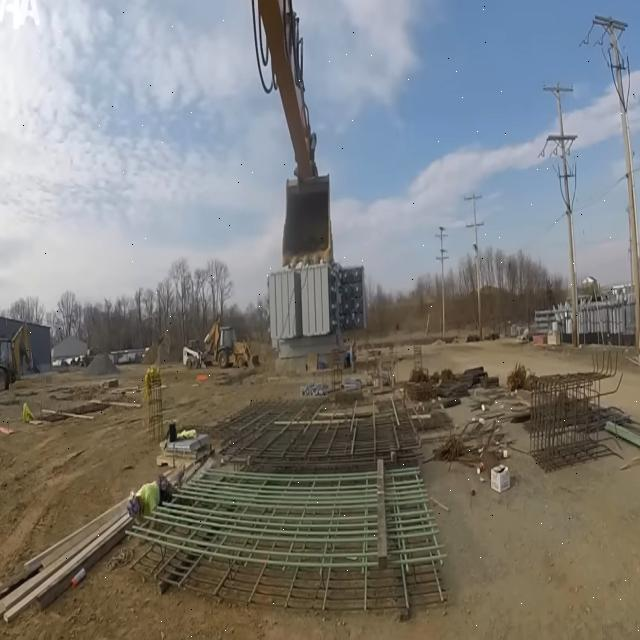fallen: (127, 476, 176, 520)
